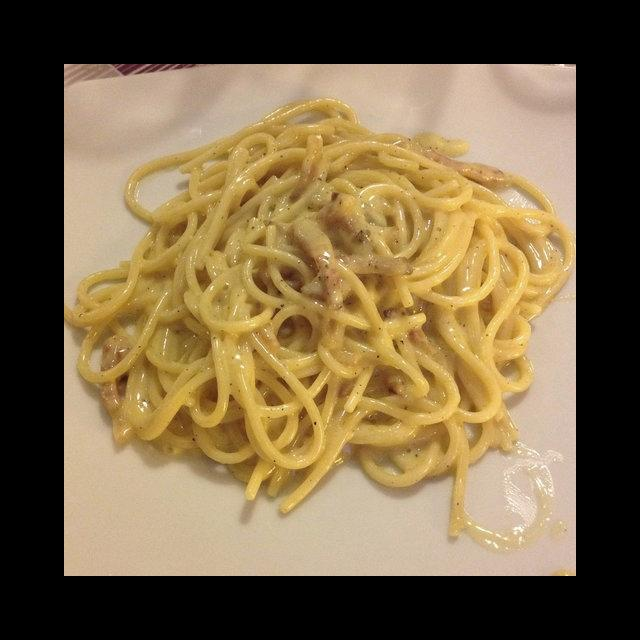noodles: (64, 98, 574, 541)
